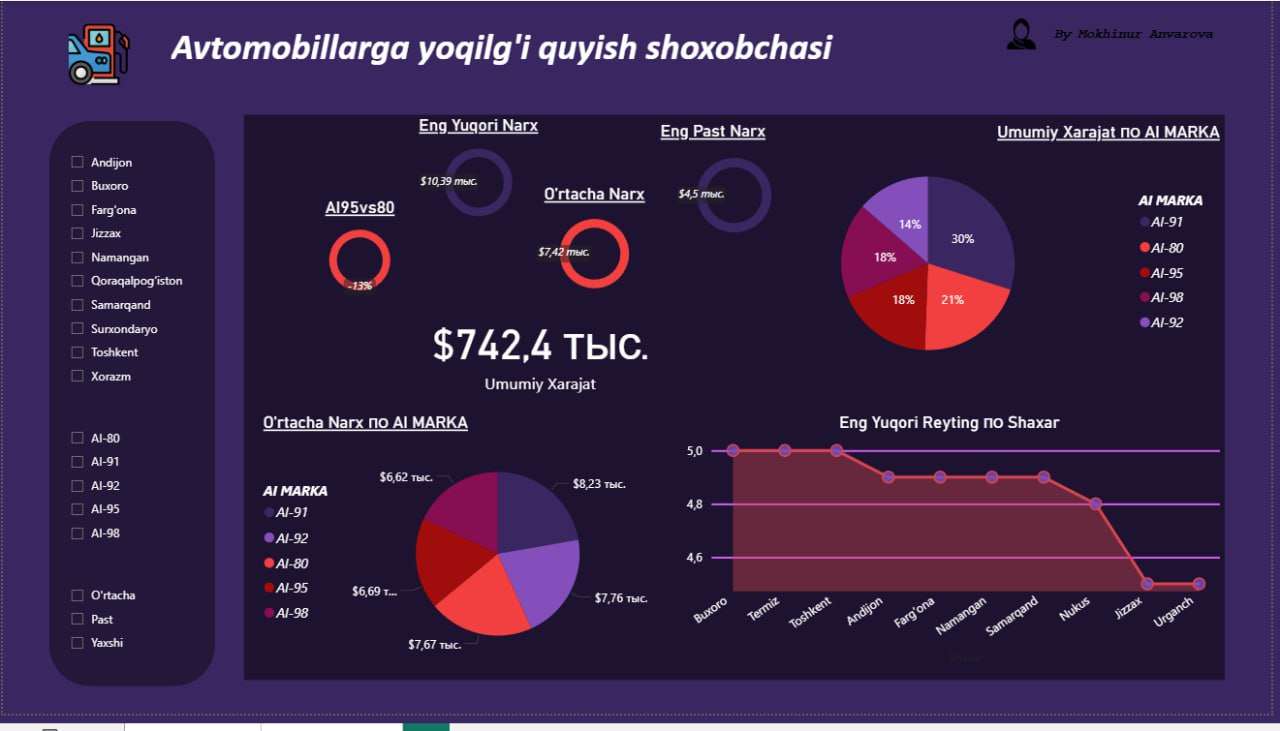

The page's visual inventory and layout, read from the dashboard file:
{"tool":"powerbi","page":{"name":"Narx boyicha ","canvas":[1280,720],"ordinal":0},"visuals":[{"type":"shape","box":[46.9,121,167.8,571.5],"z":0},{"type":"slicer","fields":{"Values":["Benzin Kolonka.Viloyat"]},"box":[55.9,145.1,151.2,269.1],"z":1000},{"type":"slicer","fields":{"Values":["Benzin Kolonka.AI MARKA"]},"box":[55.9,424.9,151.2,137.6],"z":2000},{"type":"slicer","fields":{"Values":["Benzin Kolonka.Benzin sifati"]},"box":[55.9,583.6,151.2,90.7],"z":3000},{"type":"textbox","box":[1049.3,18.1,184.5,30.2],"z":4000},{"type":"image","box":[996.4,12.1,63.5,42.3],"z":5000},{"type":"textbox","box":[164.8,18.1,734.8,101.3],"z":6000},{"type":"image","box":[46.9,18.1,101.3,71.1],"z":7000},{"type":"shape","box":[243.4,114.9,990.3,571.5],"z":8000},{"type":"donutChart","fields":{"Y":["Benzin Kolonka.AI95vs80"]},"box":[269.1,198.1,182.9,108.9],"z":9000},{"type":"donutChart","fields":{"Y":["Benzin Kolonka.Eng Yuqori Narx"]},"box":[388.6,114.9,182.9,117.9],"z":10000},{"type":"donutChart","fields":{"Y":["Benzin Kolonka.O'rtacha Narx"]},"box":[517.1,184.5,160.3,122.5],"z":11000},{"type":"donutChart","fields":{"Y":["Benzin Kolonka.Eng Past Narx"]},"box":[659.2,121,158.8,131.5],"z":12000},{"type":"pieChart","fields":{"Category":["Benzin Kolonka.AI MARKA"],"Y":["Benzin Kolonka.Umumiy Xarajat"]},"box":[716.7,121,517.1,263.1],"z":13000},{"type":"stackedAreaChart","fields":{"Y":["Benzin Kolonka.Eng Yuqori Reyting"],"Category":["Benzin Kolonka.Shaxar"]},"box":[677.3,414.3,556.4,260.1],"z":14000},{"type":"card","fields":{"Values":["Benzin Kolonka.Umumiy Xarajat"]},"box":[346.2,306.4,393.3,94.1],"z":15000},{"type":"pieChart","fields":{"Category":["Benzin Kolonka.AI MARKA"],"Y":["Benzin Kolonka.O'rtacha Narx"]},"box":[258.5,414.3,400.7,263.1],"z":16000}]}

Visuals, with their boxes in screenshot pixels (x1, y1, x2, y2), scaled from the page's 1280x720 canvas onto the 1280x731 screenshot:
shape: pyautogui.locateOnScreen(47, 123, 215, 703)
slicer - Benzin Kolonka.Viloyat: pyautogui.locateOnScreen(56, 147, 207, 421)
slicer - Benzin Kolonka.AI MARKA: pyautogui.locateOnScreen(56, 431, 207, 571)
slicer - Benzin Kolonka.Benzin sifati: pyautogui.locateOnScreen(56, 593, 207, 685)
textbox: pyautogui.locateOnScreen(1049, 18, 1234, 49)
image: pyautogui.locateOnScreen(996, 12, 1060, 55)
textbox: pyautogui.locateOnScreen(165, 18, 900, 121)
image: pyautogui.locateOnScreen(47, 18, 148, 91)
shape: pyautogui.locateOnScreen(243, 117, 1234, 697)
donutChart - Benzin Kolonka.AI95vs80: pyautogui.locateOnScreen(269, 201, 452, 312)
donutChart - Benzin Kolonka.Eng Yuqori Narx: pyautogui.locateOnScreen(389, 117, 572, 236)
donutChart - Benzin Kolonka.O'rtacha Narx: pyautogui.locateOnScreen(517, 187, 677, 312)
donutChart - Benzin Kolonka.Eng Past Narx: pyautogui.locateOnScreen(659, 123, 818, 256)
pieChart - Benzin Kolonka.AI MARKA x Benzin Kolonka.Umumiy Xarajat: pyautogui.locateOnScreen(717, 123, 1234, 390)
stackedAreaChart - Benzin Kolonka.Eng Yuqori Reyting x Benzin Kolonka.Shaxar: pyautogui.locateOnScreen(677, 421, 1234, 685)
card - Benzin Kolonka.Umumiy Xarajat: pyautogui.locateOnScreen(346, 311, 740, 407)
pieChart - Benzin Kolonka.AI MARKA x Benzin Kolonka.O'rtacha Narx: pyautogui.locateOnScreen(258, 421, 659, 688)
